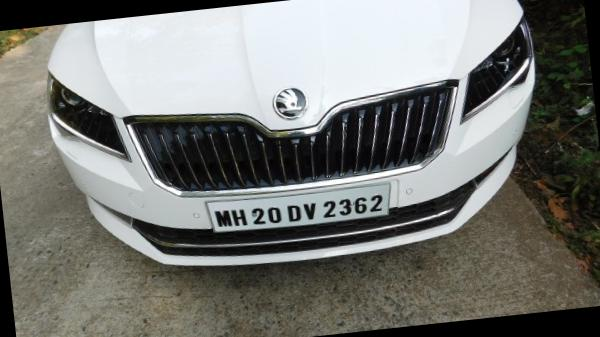plate: (199, 174, 411, 244)
